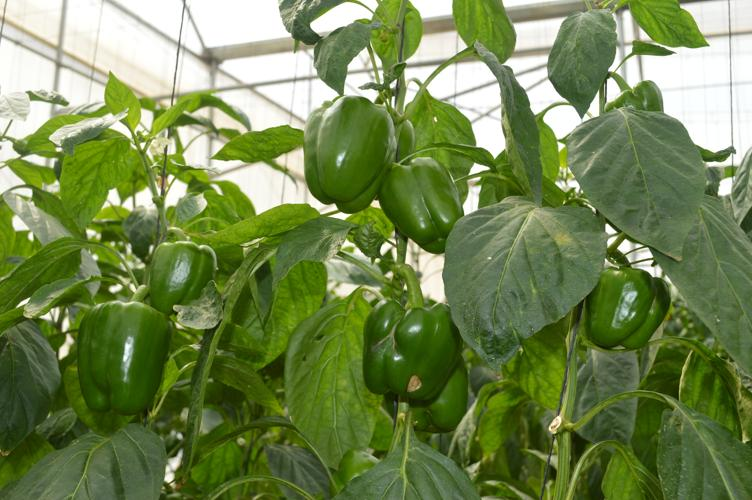BellPepper: (302, 97, 394, 213), (79, 302, 171, 411), (363, 301, 460, 400), (380, 158, 460, 255), (582, 269, 673, 354), (148, 241, 216, 312), (404, 364, 470, 432), (609, 79, 666, 113)
